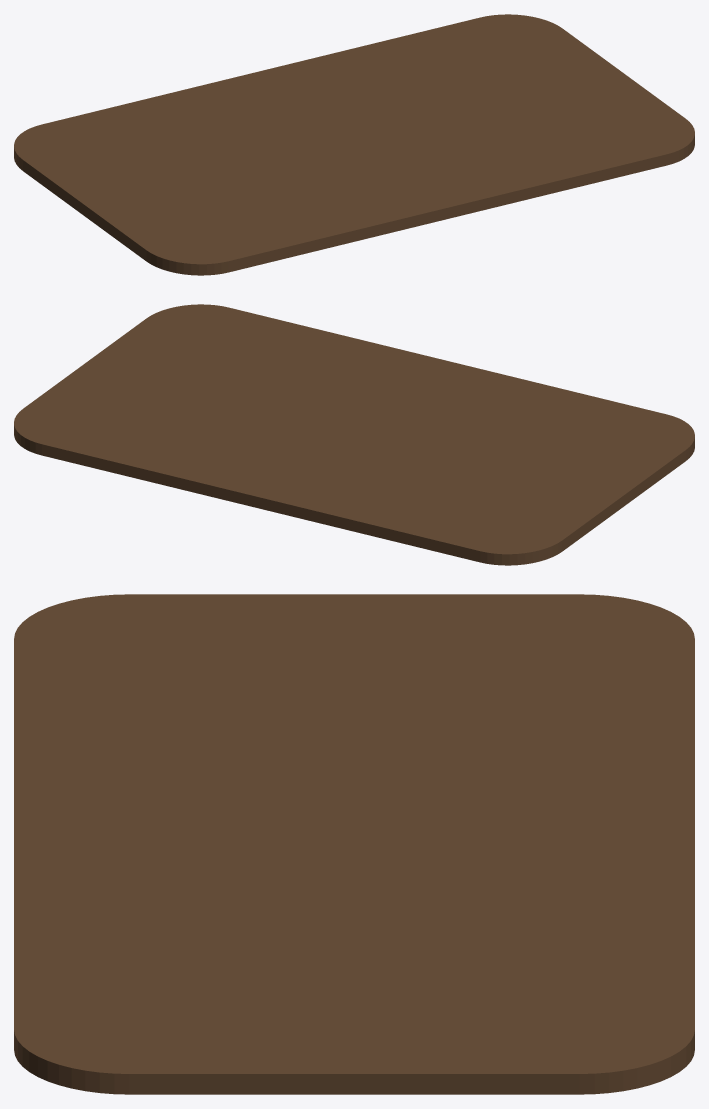
The model's file is doormat.glb.
3 views of the same model, one above another, from view 1: azimuth 30°, elevation 25°; view 2: azimuth 150°, elevation 25°; view 3: azimuth 270°, elevation 25° (orthographic). The views are drawn at different scales.
Parts seen in each view (by area): view 1: doormat; view 2: doormat; view 3: doormat.
Boxes of the visible parts, x1,y1,x2,y2 form: doormat: [14, 14, 694, 275]; doormat: [14, 304, 694, 565]; doormat: [14, 594, 694, 1094].
Size of the model in its own units: 0.7 by 0.014 by 0.42.
